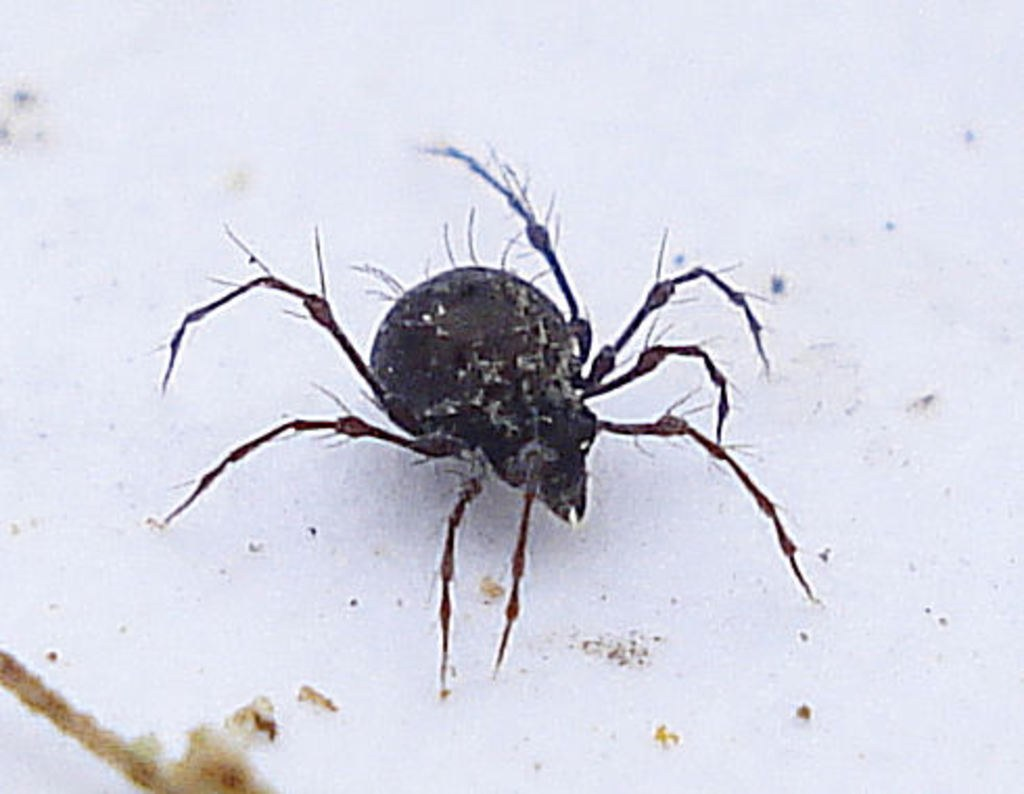insect: (142, 136, 819, 700), (150, 140, 813, 702)
